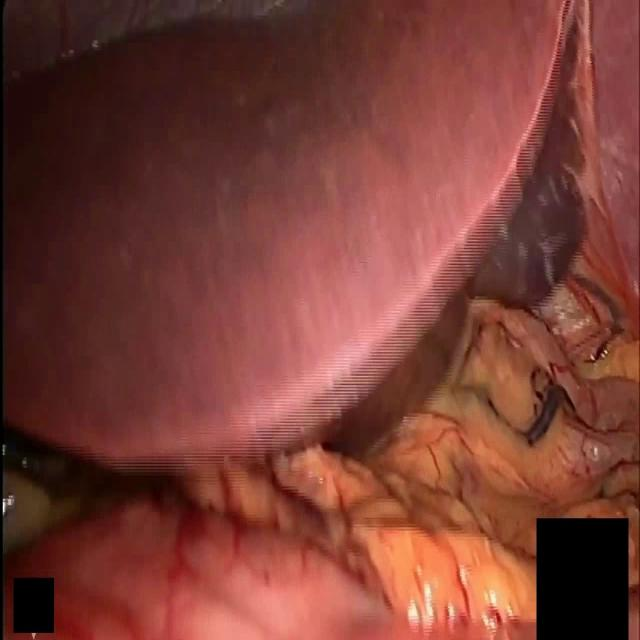surgical-area: (0, 4, 640, 639)
